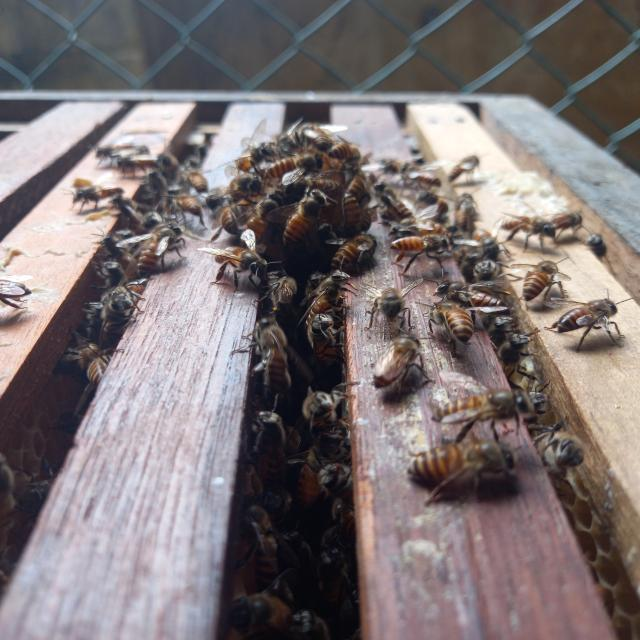honeybee: (408, 442, 518, 490), (246, 313, 292, 391), (375, 334, 434, 392), (552, 301, 628, 345), (428, 392, 528, 425), (201, 237, 265, 282), (138, 217, 185, 276), (280, 188, 326, 248), (364, 285, 419, 328), (94, 285, 144, 331), (512, 253, 560, 297), (384, 234, 451, 265), (431, 304, 479, 342), (312, 313, 345, 366), (320, 263, 352, 307), (264, 153, 325, 176)
